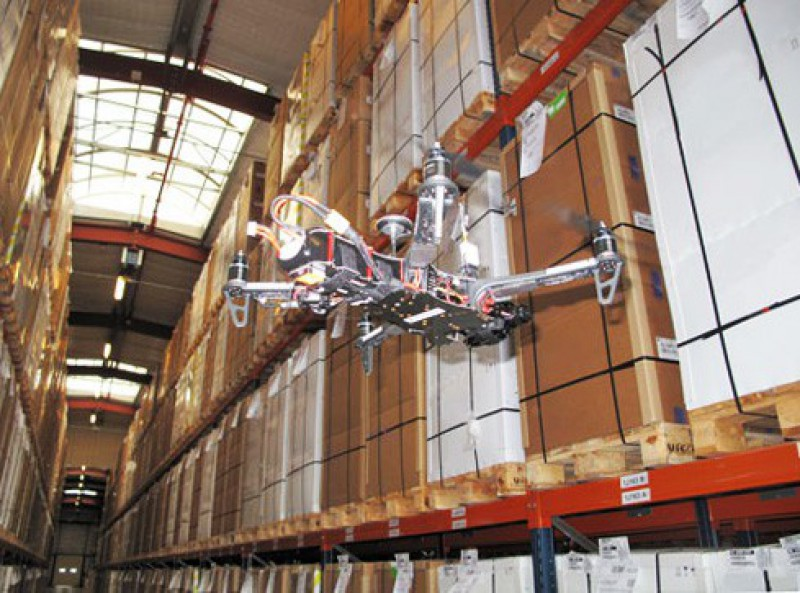drone: (194, 136, 655, 378)
